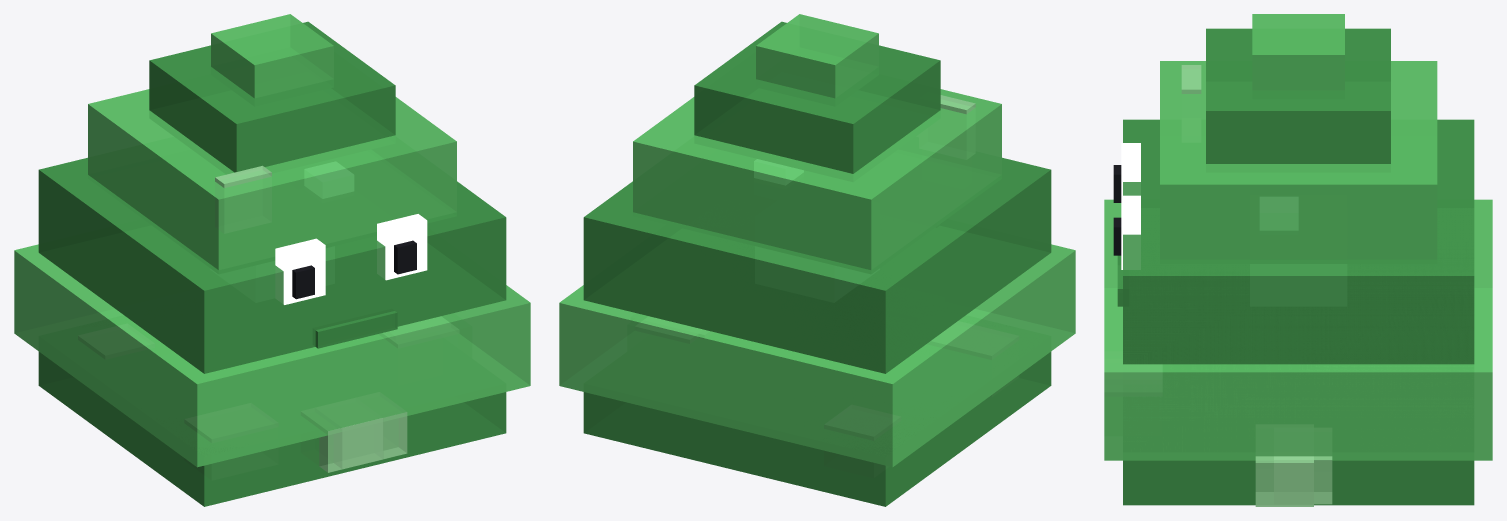
Rendered from monster-slime.glb.
3 renders of one model, left to right at view 1: azimuth 30°, elevation 25°; view 2: azimuth 150°, elevation 25°; view 3: azimuth 270°, elevation 25°, orthographic. The views are drawn at different scales.
Parts seen in each view (by area): view 1: body_layer2, body_layer1, body_layer3, body_layer4, body_layer0, body_layer5, body_shine, body_blob0, body_blob4, eye_r, eye_l, mouth (+3 smaller); view 2: body_layer2, body_layer1, body_layer3, body_layer4, body_layer0, body_layer5, body_shine, body_core_bit; view 3: body_layer2, body_layer1, body_layer0, body_layer3, body_layer4, body_layer5, body_blob3, body_blob5, body_shine, body_core_bit, eye_l, eye_r.
Boxes of the visible parts, box(x1,y1,x2,y2) form: body_layer2: box(38, 150, 506, 373); body_layer1: box(14, 244, 530, 467); body_layer3: box(88, 89, 456, 270); body_layer4: box(149, 21, 395, 173); body_layer0: box(38, 351, 506, 506); body_layer5: box(211, 14, 333, 98); body_shine: box(215, 165, 271, 233); body_blob0: box(334, 392, 407, 468); body_blob4: box(301, 408, 383, 472); eye_r: box(275, 238, 325, 304); eye_l: box(377, 214, 427, 280); mouth: box(315, 311, 397, 348); body_layer2: box(583, 150, 1051, 373); body_layer1: box(559, 244, 1075, 467); body_layer3: box(633, 89, 1001, 270); body_layer4: box(694, 21, 940, 181); body_layer0: box(583, 351, 1051, 506); body_layer5: box(756, 14, 878, 98); body_shine: box(919, 95, 975, 159); body_core_bit: box(754, 159, 803, 184); body_layer2: box(1123, 119, 1474, 364); body_layer1: box(1104, 199, 1492, 460); body_layer0: box(1123, 365, 1474, 505); body_layer3: box(1160, 61, 1437, 259); body_layer4: box(1206, 28, 1390, 171); body_layer5: box(1252, 14, 1344, 90); body_blob3: box(1255, 425, 1313, 506); body_blob5: box(1274, 428, 1332, 504); body_shine: box(1181, 65, 1201, 141); body_core_bit: box(1260, 197, 1297, 229); eye_l: box(1121, 195, 1140, 269); eye_r: box(1121, 143, 1140, 195).
Size of the model in its own units: 2.18 by 2.22 by 2.
